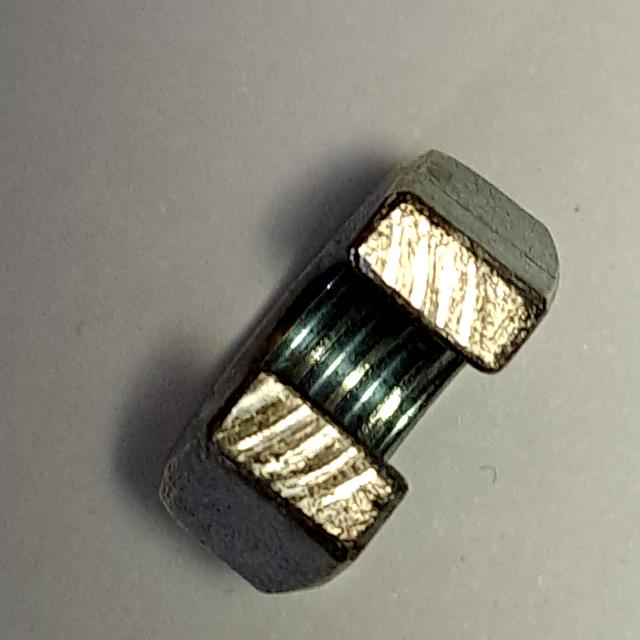Side-Fracture: (134, 126, 581, 607)
